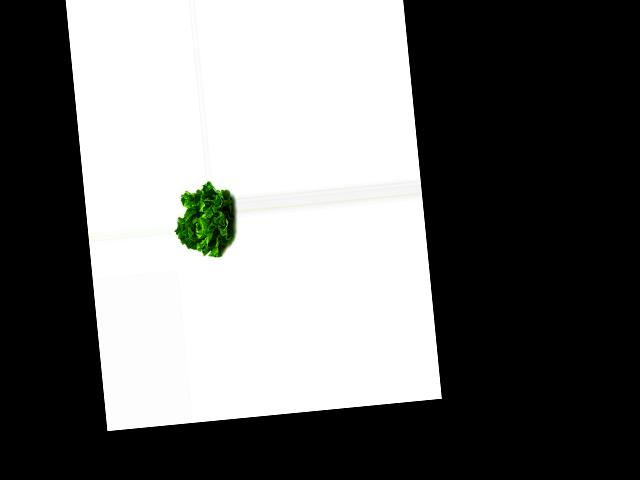lettuce: (171, 180, 239, 259)
